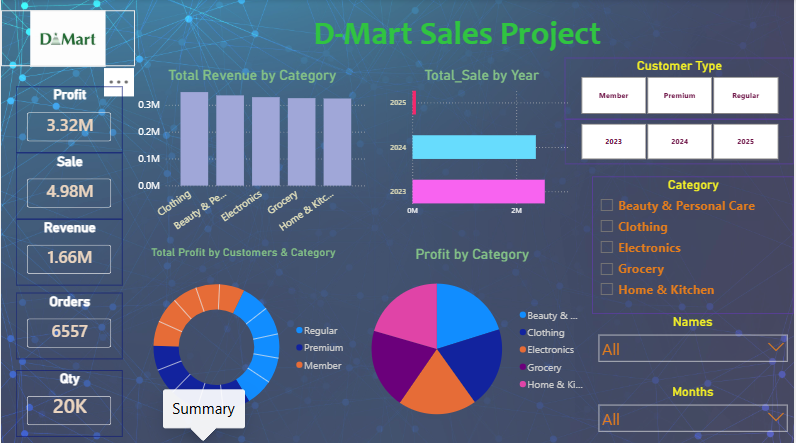

This screenshot's page, from the dashboard's own definition file:
{"tool":"powerbi","page":{"name":"Summary","canvas":[1280,720],"ordinal":0},"visuals":[{"type":"slicer","title":"Customer Type","fields":{"Values":["Dmart_data.CUSTOMERTYPE"]},"box":[910.1,94.8,369.3,98.9],"z":0},{"type":"slicer","fields":{"Values":["Dmart_data.YEAR"]},"box":[910.1,193.7,369.3,72.6],"z":1000},{"type":"slicer","title":"Category","fields":{"Values":["Dmart_data.PRODUCTCATEGORY"]},"box":[954.5,286.5,324.9,222],"z":2000},{"type":"slicer","title":"Months","fields":{"Values":["Dmart_data.MONTH"]},"box":[954.5,621.5,324.9,84.8],"z":3000},{"type":"slicer","title":"Names","fields":{"Values":["Dmart_data.FULLNAME"]},"box":[954.5,508.5,324.9,76.7],"z":4000},{"type":"image","box":[0,18.3,216.6,91.4],"z":5000},{"type":"textbox","box":[193.7,18.2,1085.7,76.7],"z":6000},{"type":"cardVisual","title":"Profit","fields":{"Data":["My_Calender.Total_Profit"]},"box":[23.5,140.9,172.3,107],"z":7000},{"type":"cardVisual","title":"Sale","fields":{"Data":["My_Calender.Total_Sale"]},"box":[23.5,248,172.3,107],"z":8000},{"type":"cardVisual","title":"Revenue","fields":{"Data":["My_Calender.Total_Revenue"]},"box":[23.5,355,172.3,107],"z":9000},{"type":"cardVisual","title":"Orders","fields":{"Data":["My_Calender.Total_Orders"]},"box":[23.5,475,172.3,107],"z":10000},{"type":"cardVisual","title":"Qty","fields":{"Data":["My_Calender.Total_Sales_Qty"]},"box":[23.5,600.3,172.3,107],"z":11000},{"type":"clusteredColumnChart","title":"Total Revenue by Category","fields":{"Category":["Dmart_data.PRODUCTCATEGORY"],"Y":["My_Calender.Total_Revenue"]},"box":[215.9,109,379.4,280.5],"z":12000},{"type":"donutChart","title":"Total Profit by Customers & Category","fields":{"Category":["Dmart_data.CUSTOMERTYPE"],"Y":["My_Calender.Total_Profit"],"Series":["Dmart_data.PRODUCTCATEGORY"]},"box":[215.9,397.5,351.1,308.7],"z":13000},{"type":"pieChart","title":"Profit by Category","fields":{"Y":["My_Calender.Profit_Per_Order"],"Series":["Dmart_data.PRODUCTCATEGORY"]},"box":[567,397.5,387.4,308.7],"z":14000},{"type":"barChart","title":"Total_Sale by Year","fields":{"Y":["My_Calender.Total_Sale"],"Category":["Dmart_data.YEAR"]},"box":[621.5,109,308.7,250.2],"z":15000}]}

Visuals, with their boxes in screenshot pixels (x1, y1, x2, y2), scaled from the page's 1280x720 canvas onto the 796x443 screenshot:
"Customer Type" slicer: left=566, top=58, right=795, bottom=119
slicer - Dmart_data.YEAR: left=566, top=119, right=795, bottom=164
"Category" slicer: left=594, top=176, right=795, bottom=313
"Months" slicer: left=594, top=382, right=795, bottom=435
"Names" slicer: left=594, top=313, right=795, bottom=360
image: left=0, top=11, right=135, bottom=67
textbox: left=120, top=11, right=795, bottom=58
"Profit" cardVisual: left=15, top=87, right=122, bottom=153
"Sale" cardVisual: left=15, top=153, right=122, bottom=218
"Revenue" cardVisual: left=15, top=218, right=122, bottom=284
"Orders" cardVisual: left=15, top=292, right=122, bottom=358
"Qty" cardVisual: left=15, top=369, right=122, bottom=435
"Total Revenue by Category" clusteredColumnChart: left=134, top=67, right=370, bottom=240
"Total Profit by Customers & Category" donutChart: left=134, top=245, right=353, bottom=435
"Profit by Category" pieChart: left=353, top=245, right=594, bottom=435
"Total_Sale by Year" barChart: left=386, top=67, right=578, bottom=221
